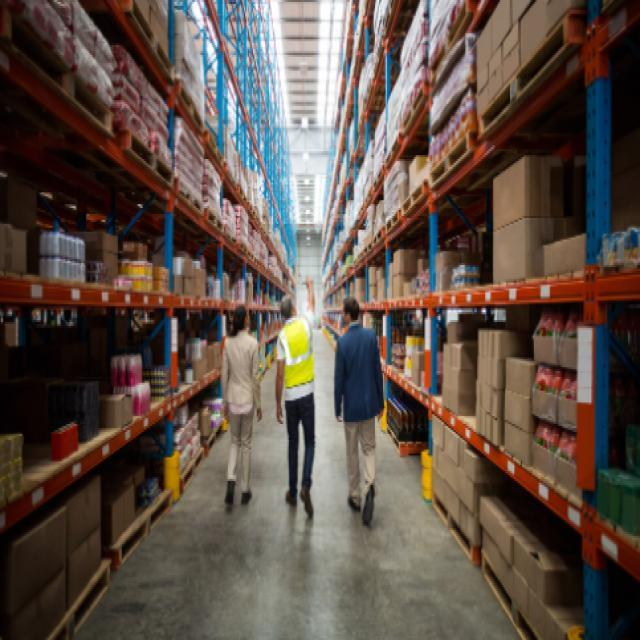boots: (283, 486, 317, 518)
vest: (277, 317, 314, 393)
